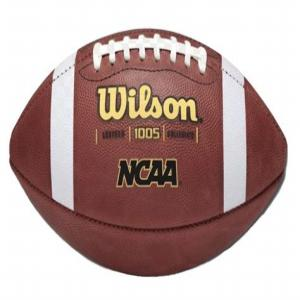Rugby: (9, 28, 288, 277)
